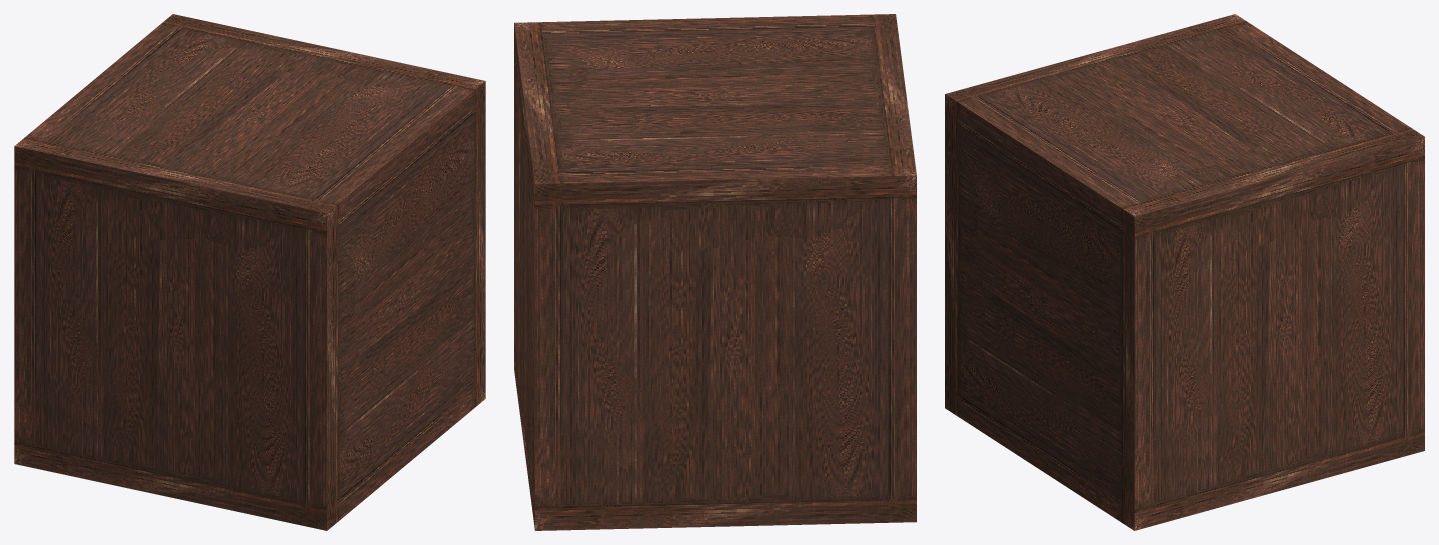
File: caja2.glb
The picture shows the model from 3 angles, left to right: view 1: azimuth 30°, elevation 25°; view 2: azimuth 150°, elevation 25°; view 3: azimuth 270°, elevation 25°; orthographic projection. The views are drawn at different scales.
Parts seen in each view (by area): view 1: Crate_1; view 2: Crate_1; view 3: Crate_1.
Boxes of the visible parts, x1,y1,x2,y2 form: Crate_1: [14, 14, 485, 530]; Crate_1: [514, 14, 916, 530]; Crate_1: [945, 14, 1424, 530].
Size of the model in its own units: 1.01 by 0.7279 by 1.01.
1 material, 1 textured.
